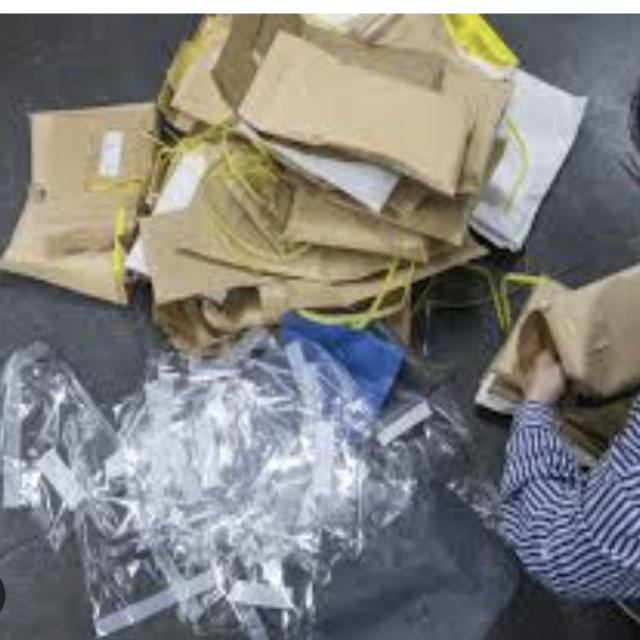biodegradable: (184, 36, 576, 266), (20, 98, 162, 332), (466, 258, 639, 435)
